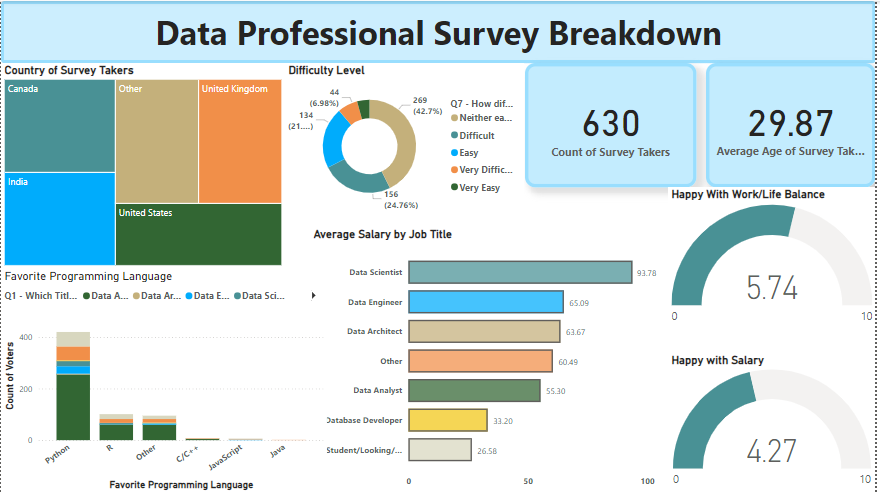

This screenshot's page, from the dashboard's own definition file:
{"tool":"powerbi","page":{"name":"Page 1","canvas":[1280,720],"ordinal":0},"visuals":[{"type":"textbox","box":[0,0,1280.5,90.7],"z":0},{"type":"card","fields":{"Values":["Count(Data Professional Survey.Unique ID)"]},"box":[766.2,90.2,250.8,182],"z":1000},{"type":"card","fields":{"Values":["Avg(Data Professional Survey.Q10 - Current Age)"]},"box":[1032.3,90.8,247.7,181.5],"z":2000},{"type":"barChart","title":"Average Salary by Job Title","fields":{"Category":["Data Professional Survey.Q1 - Which Title Best Fits your Current Role?.1"],"Y":["Avg(Data Professional Survey.Average Salary)"],"Series":["Data Professional Survey.Q1 - Which Title Best Fits your Current Role?.1"]},"box":[452.7,330.3,523,390],"z":3000},{"type":"columnChart","title":"Favorite Programming Language","fields":{"Category":["Data Professional Survey.Q5 - Favorite Programming Language.1"],"Y":["CountNonNull(Data Professional Survey.Unique ID)"],"Series":["Data Professional Survey.Q1 - Which Title Best Fits your Current Role?.1"]},"box":[0,391.5,477.1,328.8],"z":3001},{"type":"treemap","title":"Country of Survey Takers","fields":{"Group":["Data Professional Survey.Q11 - Which Country do you live in?.1"],"Values":["Count(Data Professional Survey.Q11 - Which Country do you live in?.1)"]},"box":[0,90.2,416,301.3],"z":3002},{"type":"gauge","title":"Happy with Salary","fields":{"Y":["Avg(Data Professional Survey.Q6 - How Happy are you in your Current Position with the following? (Salary))"],"MinValue":["Min(Data Professional Survey.Q6 - How Happy are you in your Current Position with the following? (Salary))1"],"MaxValue":["Max(Data Professional Survey.Q6 - How Happy are you in your Current Position with the following? (Salary))2"]},"box":[975.7,515.4,304.3,204.9],"z":3003},{"type":"gauge","title":"Happy With Work/Life Balance","fields":{"Y":["Avg(Data Professional Survey.Q6 - How Happy are you in your Current Position with the following? (Work/Life Balance))"],"MinValue":["Min(Data Professional Survey.Q6 - How Happy are you in your Current Position with the following? (Work/Life Balance))1"],"MaxValue":["Max(Data Professional Survey.Q6 - How Happy are you in your Current Position with the following? (Work/Life Balance))2"]},"box":[975.7,272.2,304.3,211],"z":3004},{"type":"donutChart","title":"Difficulty Level","fields":{"Y":["CountNonNull(Data Professional Survey.Q7 - How difficult was it for you to break into Data?)"],"Category":["Data Professional Survey.Q7 - How difficult was it for you to break into Data?"]},"box":[416,90.2,350.2,224.8],"z":3005}]}

Visuals, with their boxes in screenshot pixels (x1, y1, x2, y2), scaled from the page's 1280x720 canvas onto the 880x493 screenshot:
textbox: 0/0/879/62
card - Count(Data Professional Survey.Unique ID): 527/62/699/186
card - Avg(Data Professional Survey.Q10 - Current Age): 710/62/879/186
"Average Salary by Job Title" barChart: 311/226/671/492
"Favorite Programming Language" columnChart: 0/268/328/492
"Country of Survey Takers" treemap: 0/62/286/268
"Happy with Salary" gauge: 671/353/879/492
"Happy With Work/Life Balance" gauge: 671/186/879/331
"Difficulty Level" donutChart: 286/62/527/216
